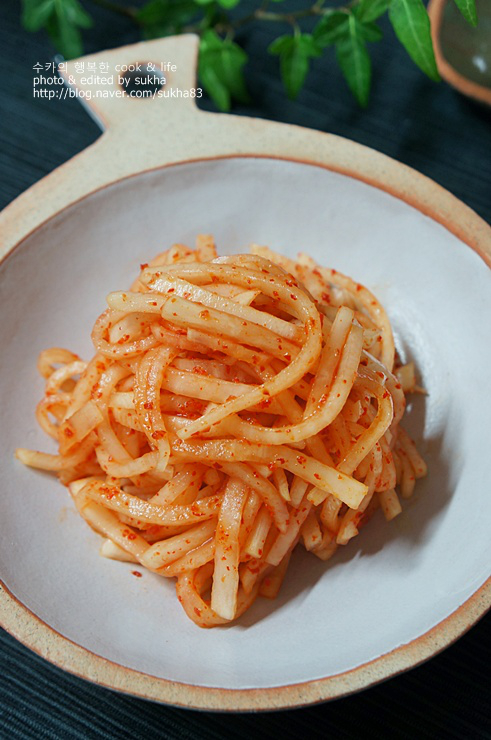musaengchae: (19, 222, 440, 633)
